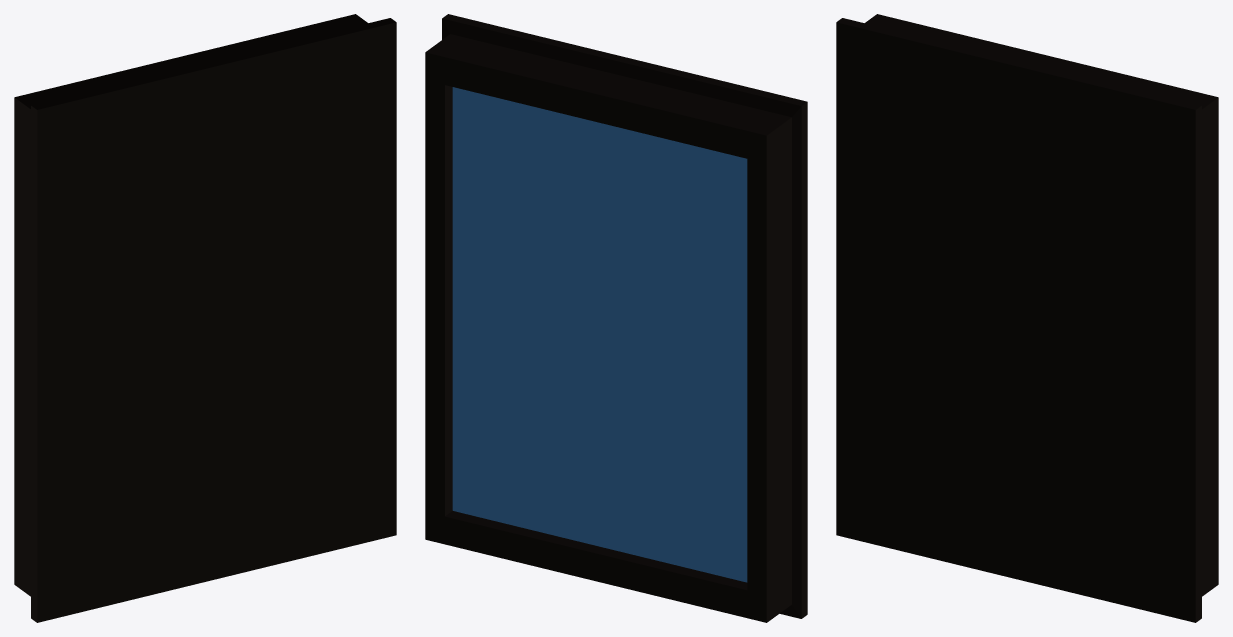
The model's file is Window 2.fbx.
3 renders of one model, left to right at view 1: azimuth 30°, elevation 25°; view 2: azimuth 150°, elevation 25°; view 3: azimuth 330°, elevation 25°, orthographic.
Visible parts, largest first — view 1: Node 0; view 2: Node 0; view 3: Node 0.
Part boxes in pixels (x1,y1,x2,y2): Node 0: (14,14,396,622); Node 0: (425,14,807,622); Node 0: (836,14,1218,622).
Bounding box in the file's own units: 0.1062 × 0.9428 × 0.6914.
